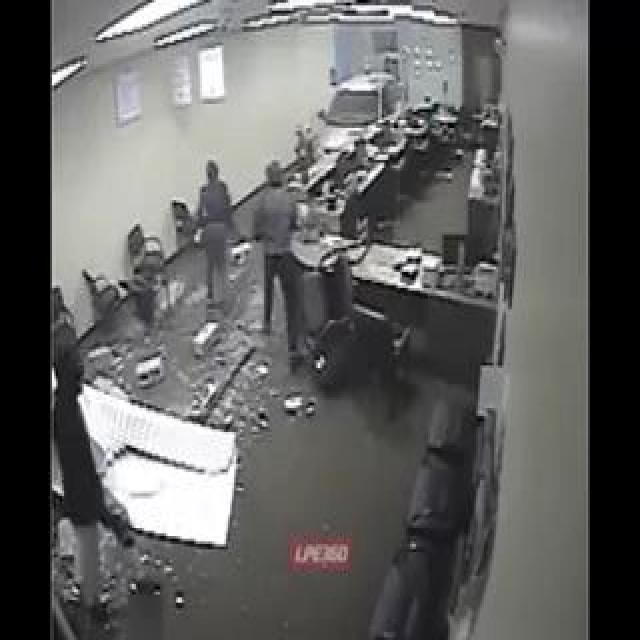thief: (195, 144, 306, 246), (55, 307, 101, 435)
